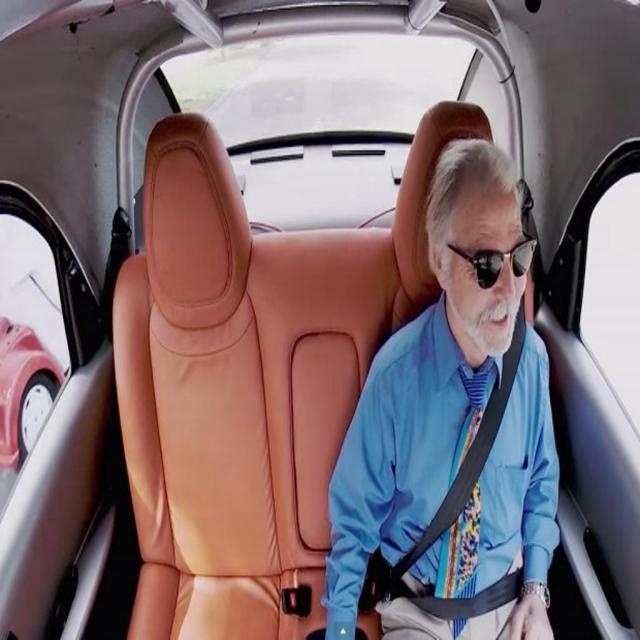nomask: (452, 198, 528, 356)
